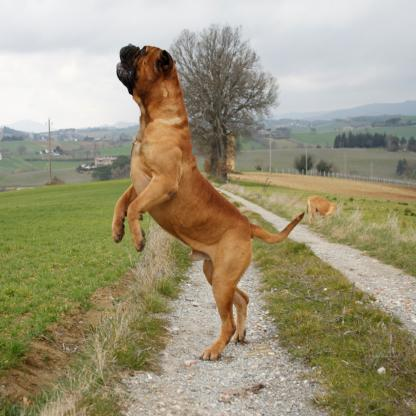Bullmanstiff: (108, 26, 292, 371)
